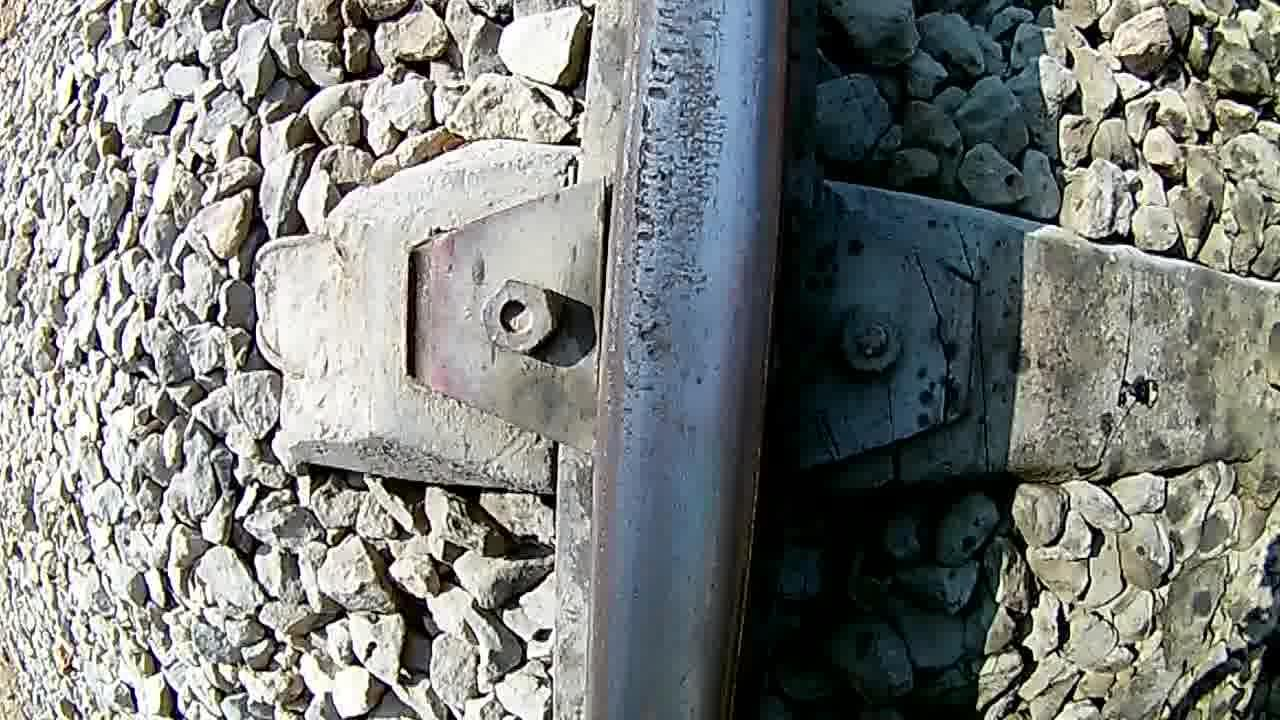crack: (616, 0, 780, 720)
